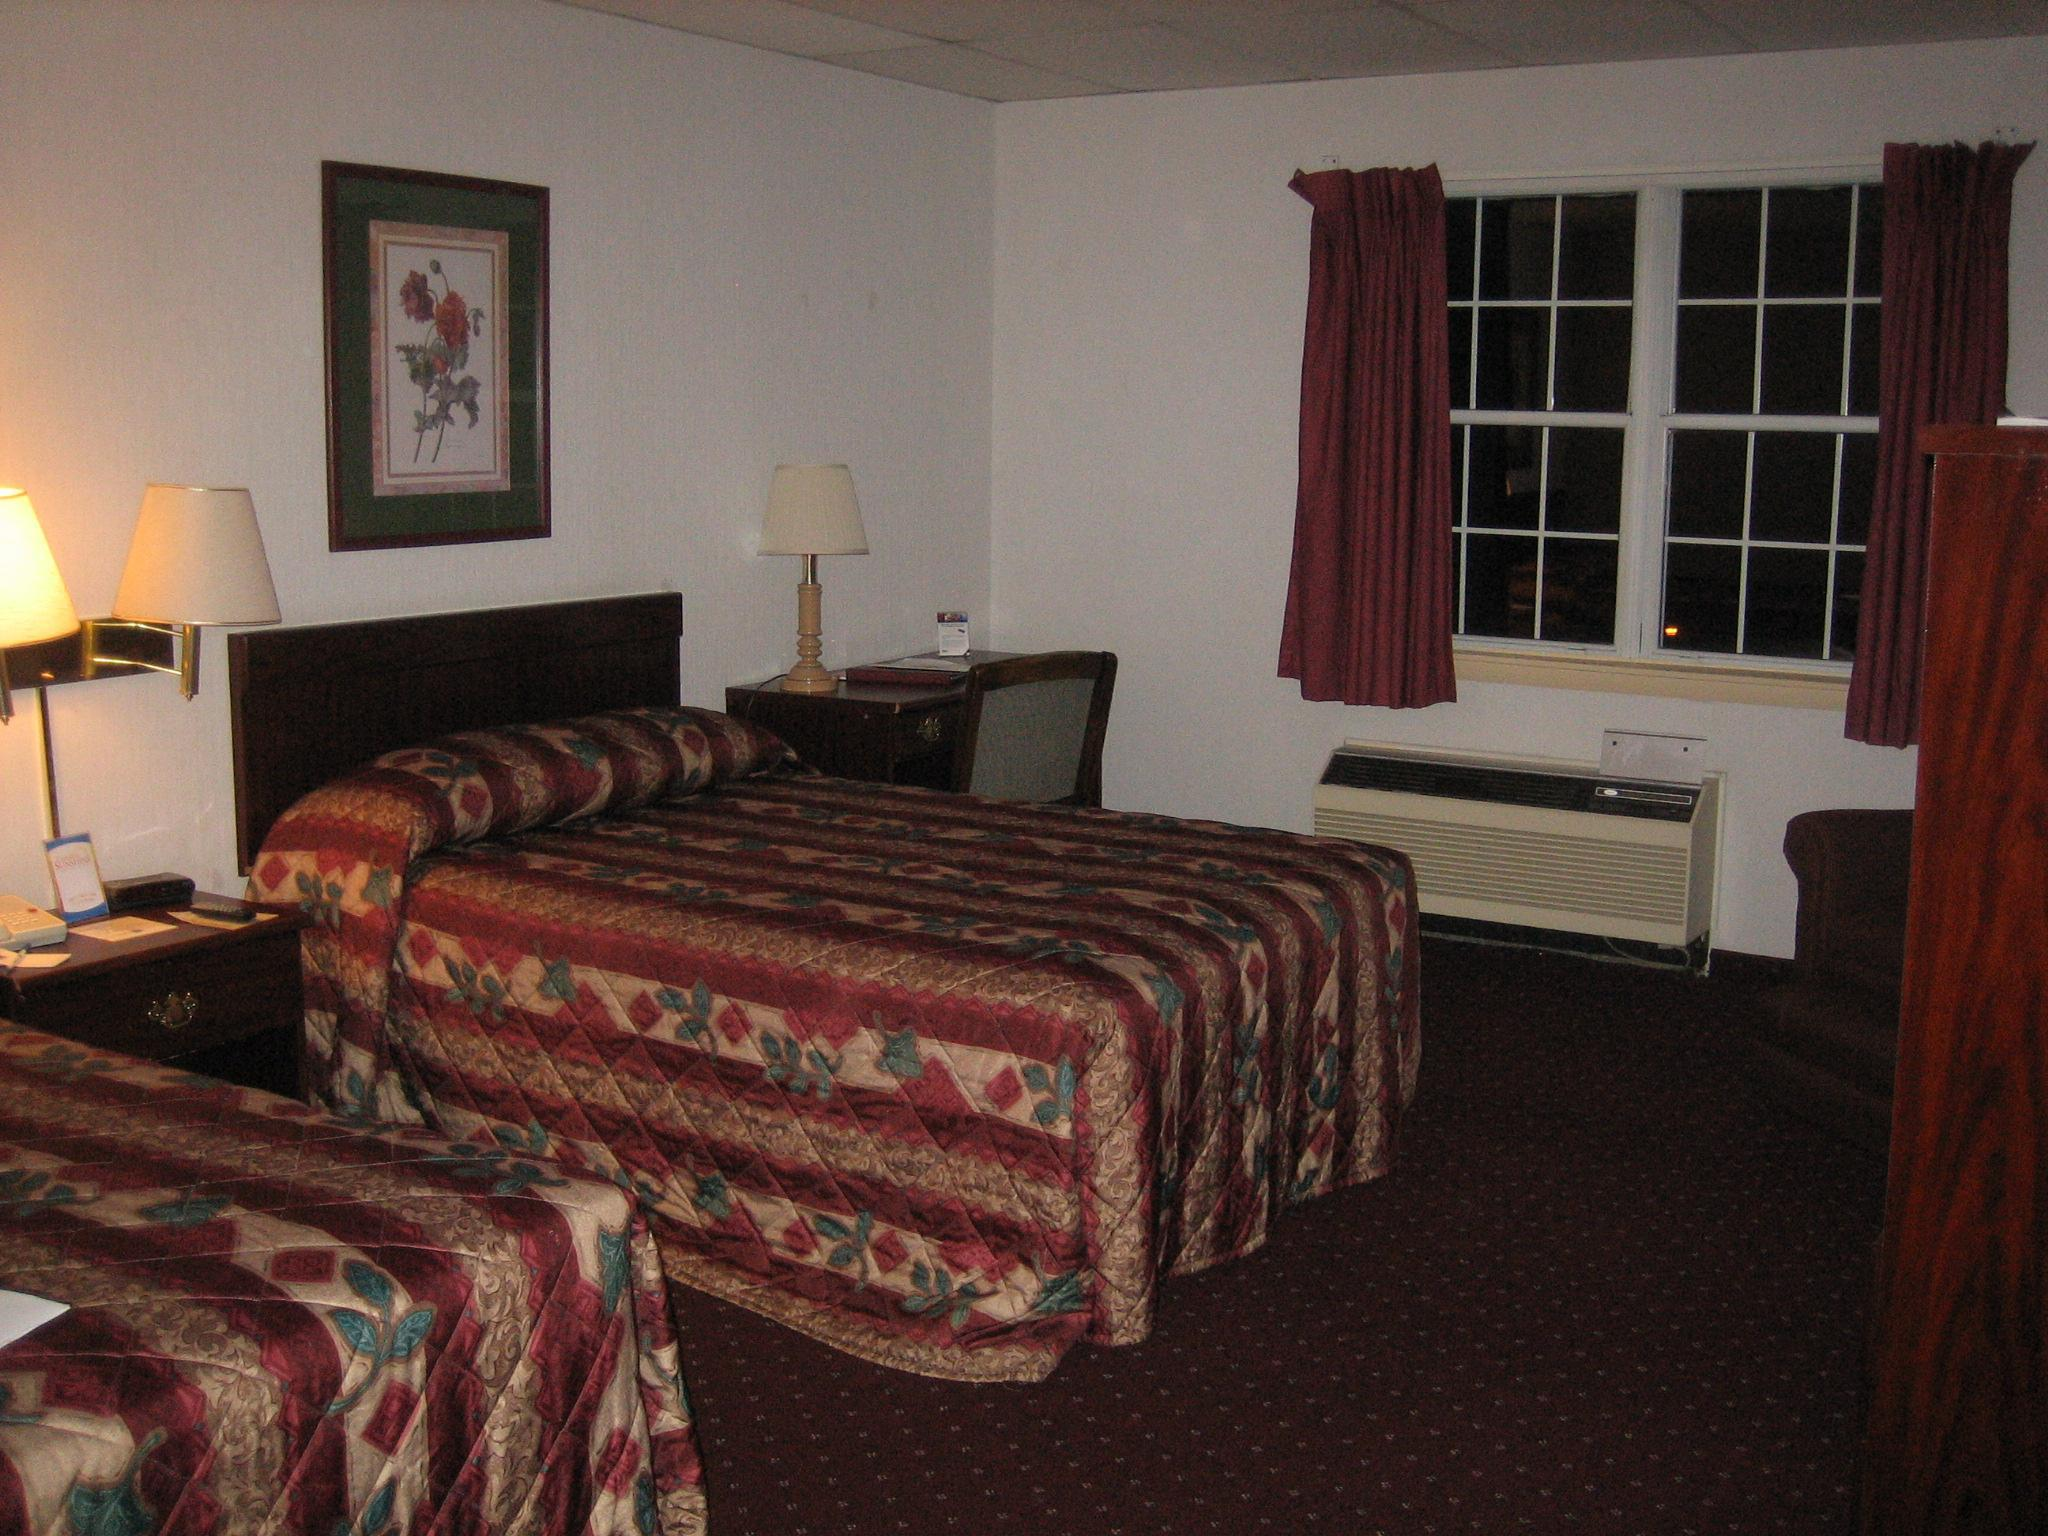Cama: (235, 623, 1455, 1360), (21, 1054, 684, 1518)
Otro Obstaculo: (1317, 728, 1730, 955)
Ventana: (1371, 197, 1945, 676)
